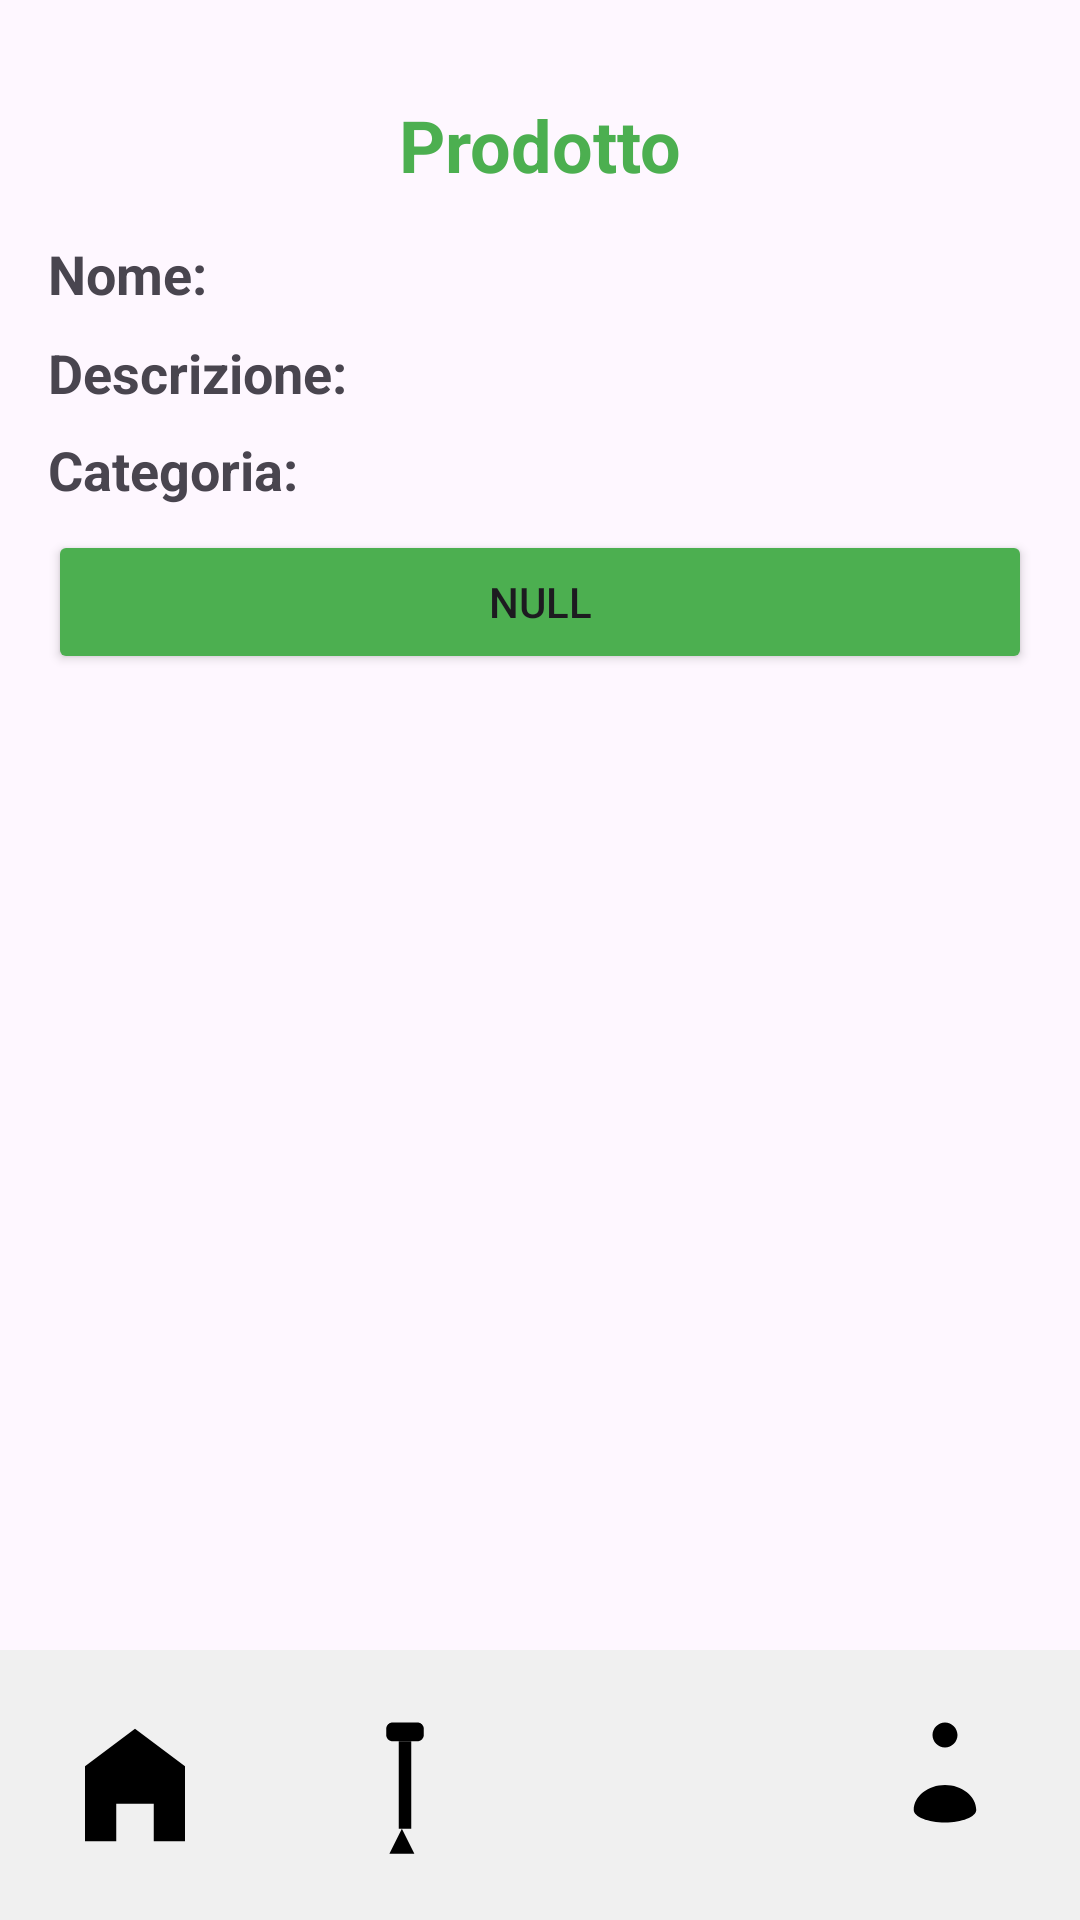

Point at icon controls on the screen. Image size 1080 x 1920, points as (x,y).
Home: (135,1785)
Profilo: (945,1772)
tool: (405,1788)
